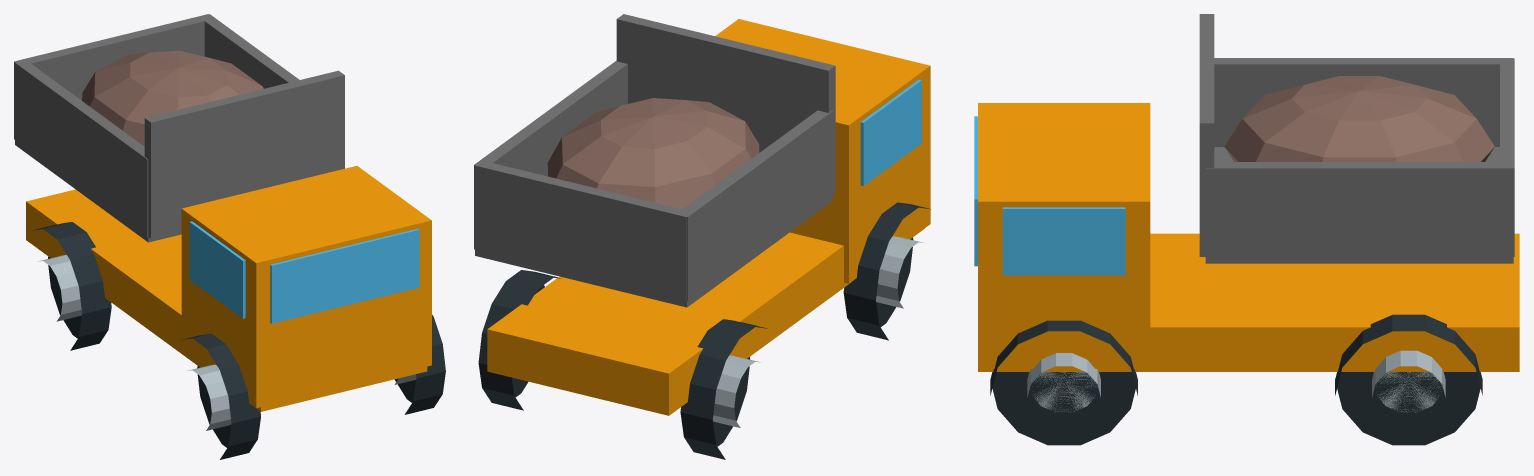
File: dumper.glb
The picture shows the model from 3 angles, left to right: view 1: azimuth 30°, elevation 25°; view 2: azimuth 150°, elevation 25°; view 3: azimuth 270°, elevation 25°; orthographic projection. The views are drawn at different scales.
Visible parts, largest first — view 1: dumper; view 2: dumper; view 3: dumper.
Boxes of the visible parts, box(x1,y1,x2,y2) form: dumper: box(14, 14, 445, 459); dumper: box(474, 14, 930, 459); dumper: box(974, 14, 1519, 445).
Size of the model in its own units: 1.2 by 1.49 by 2.22.
